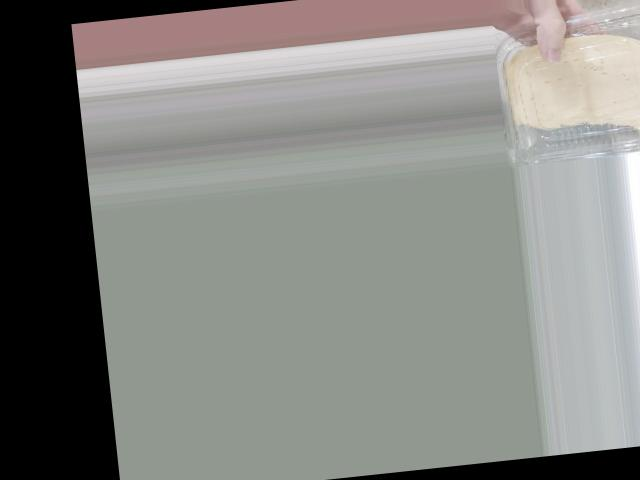cheese: (492, 15, 640, 169)
